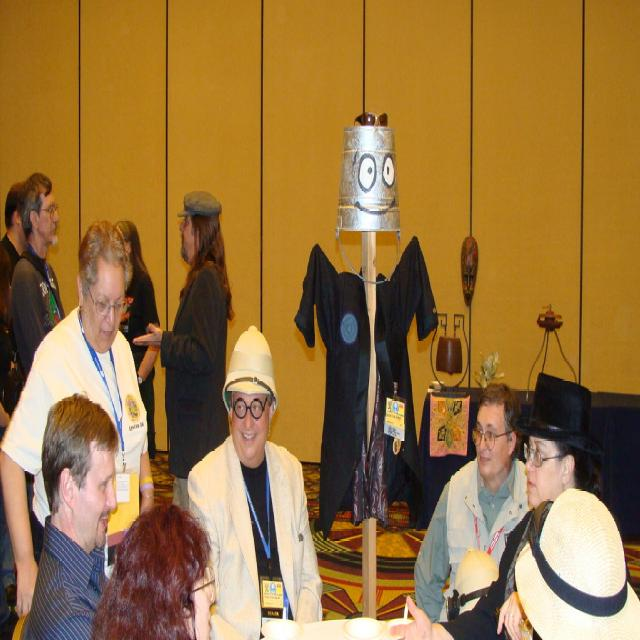Hat: (515, 486, 639, 636), (520, 374, 602, 463), (221, 319, 277, 414)
